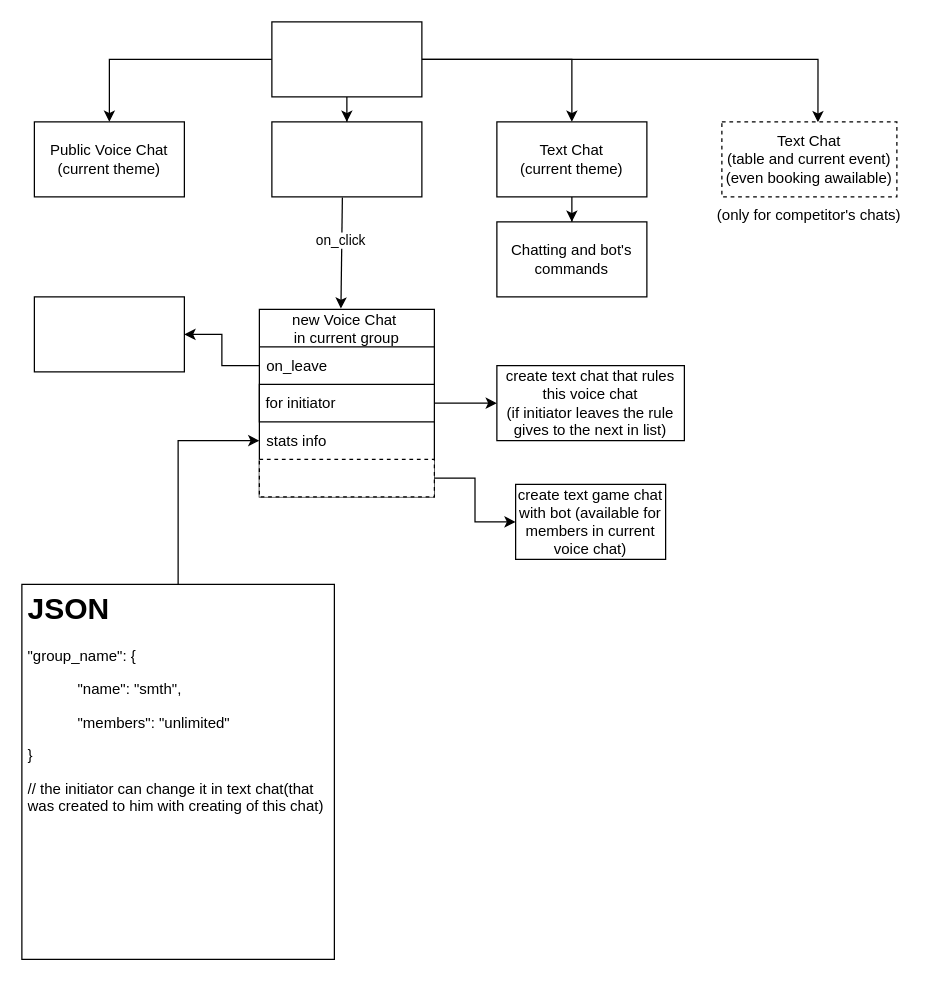
Image size: 925x981. Some labels were removed from this diagram. Here are the shapes that lost their labels. From the top down, the centre of each, then its label:
(x=346, y=59): Group of smth
(x=346, y=159): Voice Chat to create new one
(x=108, y=334): Check emptiness and than delete (with rule chat)
(x=346, y=477): if board game chat
